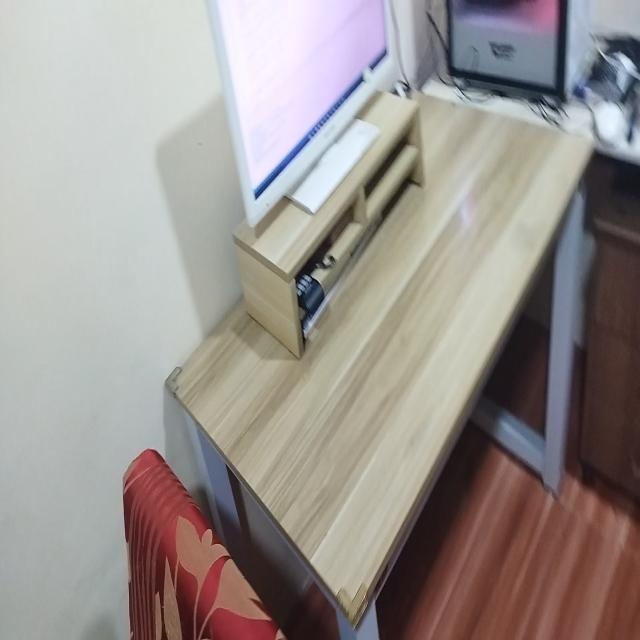table: (174, 76, 585, 640)
